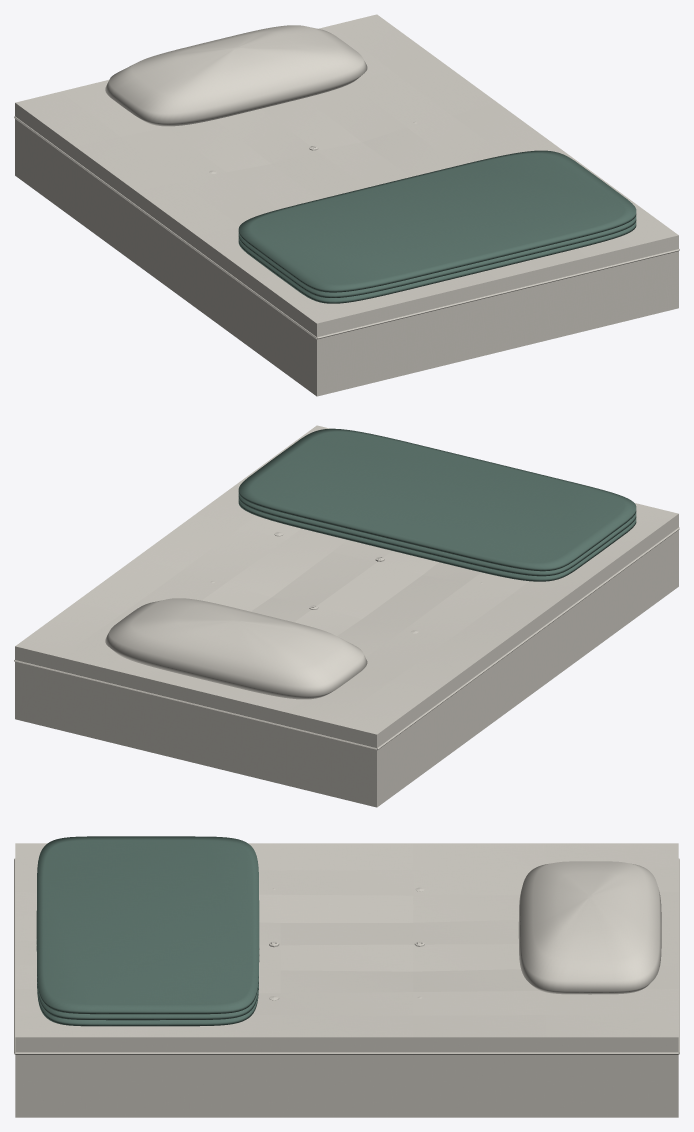
The model's file is mattress_dirty_022_v3.glb.
The picture shows the model from 3 angles, top to bottom: view 1: azimuth 30°, elevation 25°; view 2: azimuth 150°, elevation 25°; view 3: azimuth 270°, elevation 25°; orthographic projection. The views are drawn at different scales.
Visible parts, largest first — view 1: REUSE__mattress_dirty__022, R101V3_folded_blanket_layer.002, R101V3_soft_pillow, R101V3_folded_blanket_layer, R101V3_folded_blanket_layer.001; view 2: REUSE__mattress_dirty__022, R101V3_folded_blanket_layer.002, R101V3_soft_pillow, R101V3_folded_blanket_layer.001, R101V3_folded_blanket_layer; view 3: REUSE__mattress_dirty__022, R101V3_folded_blanket_layer.002, R101V3_soft_pillow, R101V3_folded_blanket_layer, R101V3_folded_blanket_layer.001.
Boxes of the visible parts, <box> form: REUSE__mattress_dirty__022: <box>14,14,679,396</box>; R101V3_folded_blanket_layer.002: <box>238,150,636,292</box>; R101V3_soft_pillow: <box>105,25,367,126</box>; R101V3_folded_blanket_layer: <box>238,221,636,303</box>; R101V3_folded_blanket_layer.001: <box>238,215,636,297</box>; REUSE__mattress_dirty__022: <box>14,425,679,807</box>; R101V3_folded_blanket_layer.002: <box>238,428,636,571</box>; R101V3_soft_pillow: <box>105,598,367,699</box>; R101V3_folded_blanket_layer.001: <box>238,494,636,576</box>; R101V3_folded_blanket_layer: <box>238,499,636,581</box>; REUSE__mattress_dirty__022: <box>14,843,679,1117</box>; R101V3_folded_blanket_layer.002: <box>36,836,259,1014</box>; R101V3_soft_pillow: <box>518,861,661,994</box>; R101V3_folded_blanket_layer: <box>36,946,259,1026</box>; R101V3_folded_blanket_layer.001: <box>36,940,259,1020</box>.
Bounding box in the file's own units: 1.36 × 0.4073 × 1.96.
Materials: 2 (2 with a texture image).
